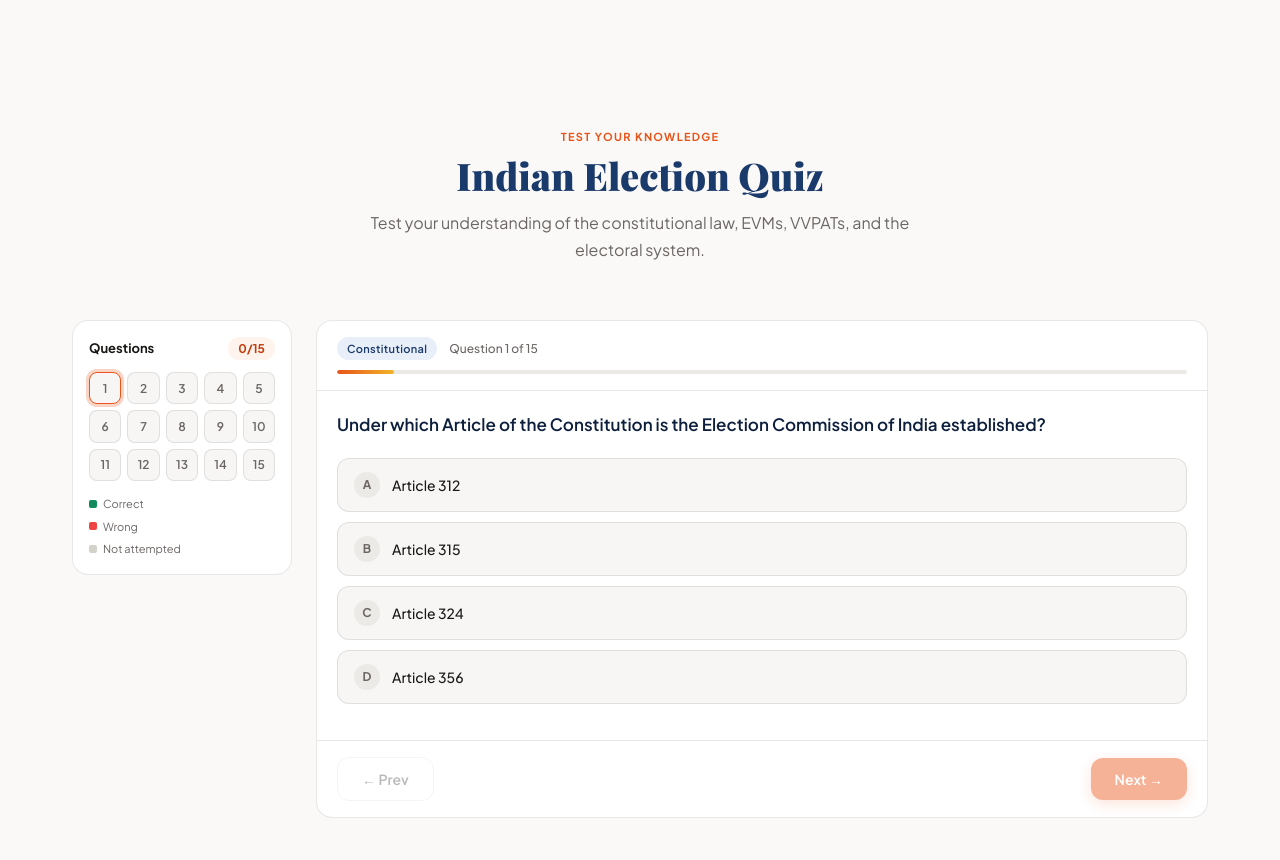
Scenario: Quiz Component › allows selecting an answer and shows feedback
Click the button "A Article 312".
click(426, 485)  # box top-left (337, 458), bottom-right (1187, 512)
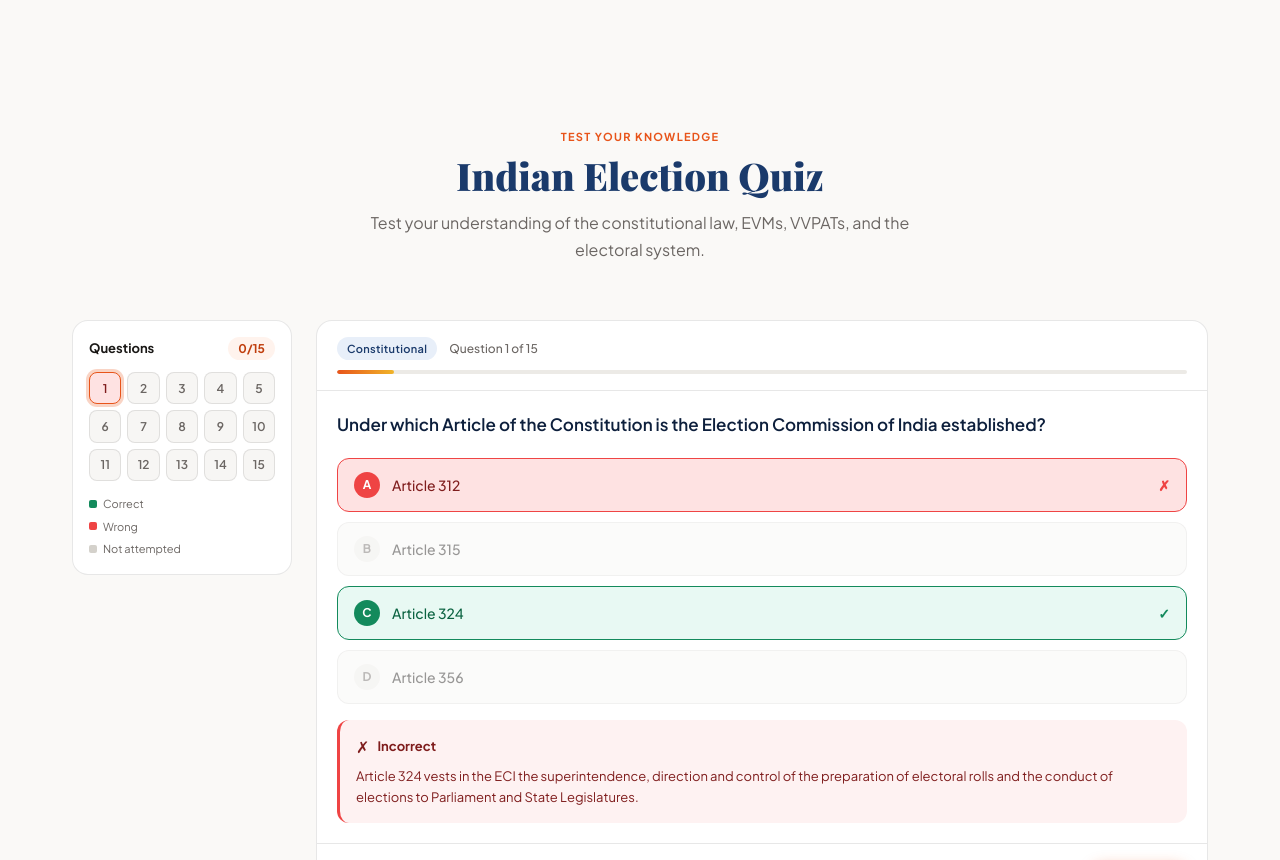
Expected: the text "Incorrect" is shown, top-left (377, 736), bottom-right (436, 758)
